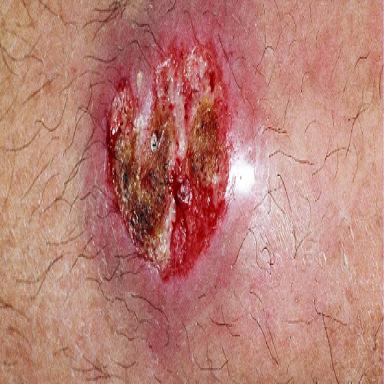Leishmanios: (84, 2, 263, 312)
